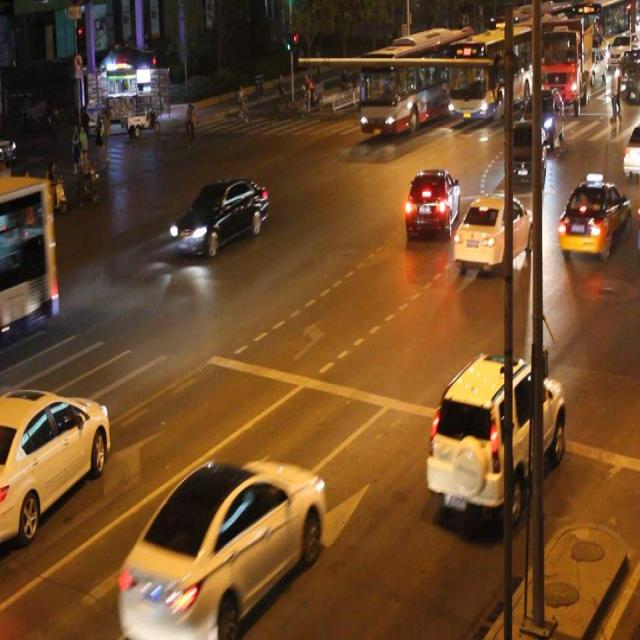car: (118, 455, 324, 640), (426, 355, 562, 508), (1, 388, 110, 540), (169, 176, 268, 258), (452, 193, 530, 268), (557, 178, 629, 255), (403, 167, 460, 240), (502, 120, 544, 187)
van: (1, 176, 56, 345)
